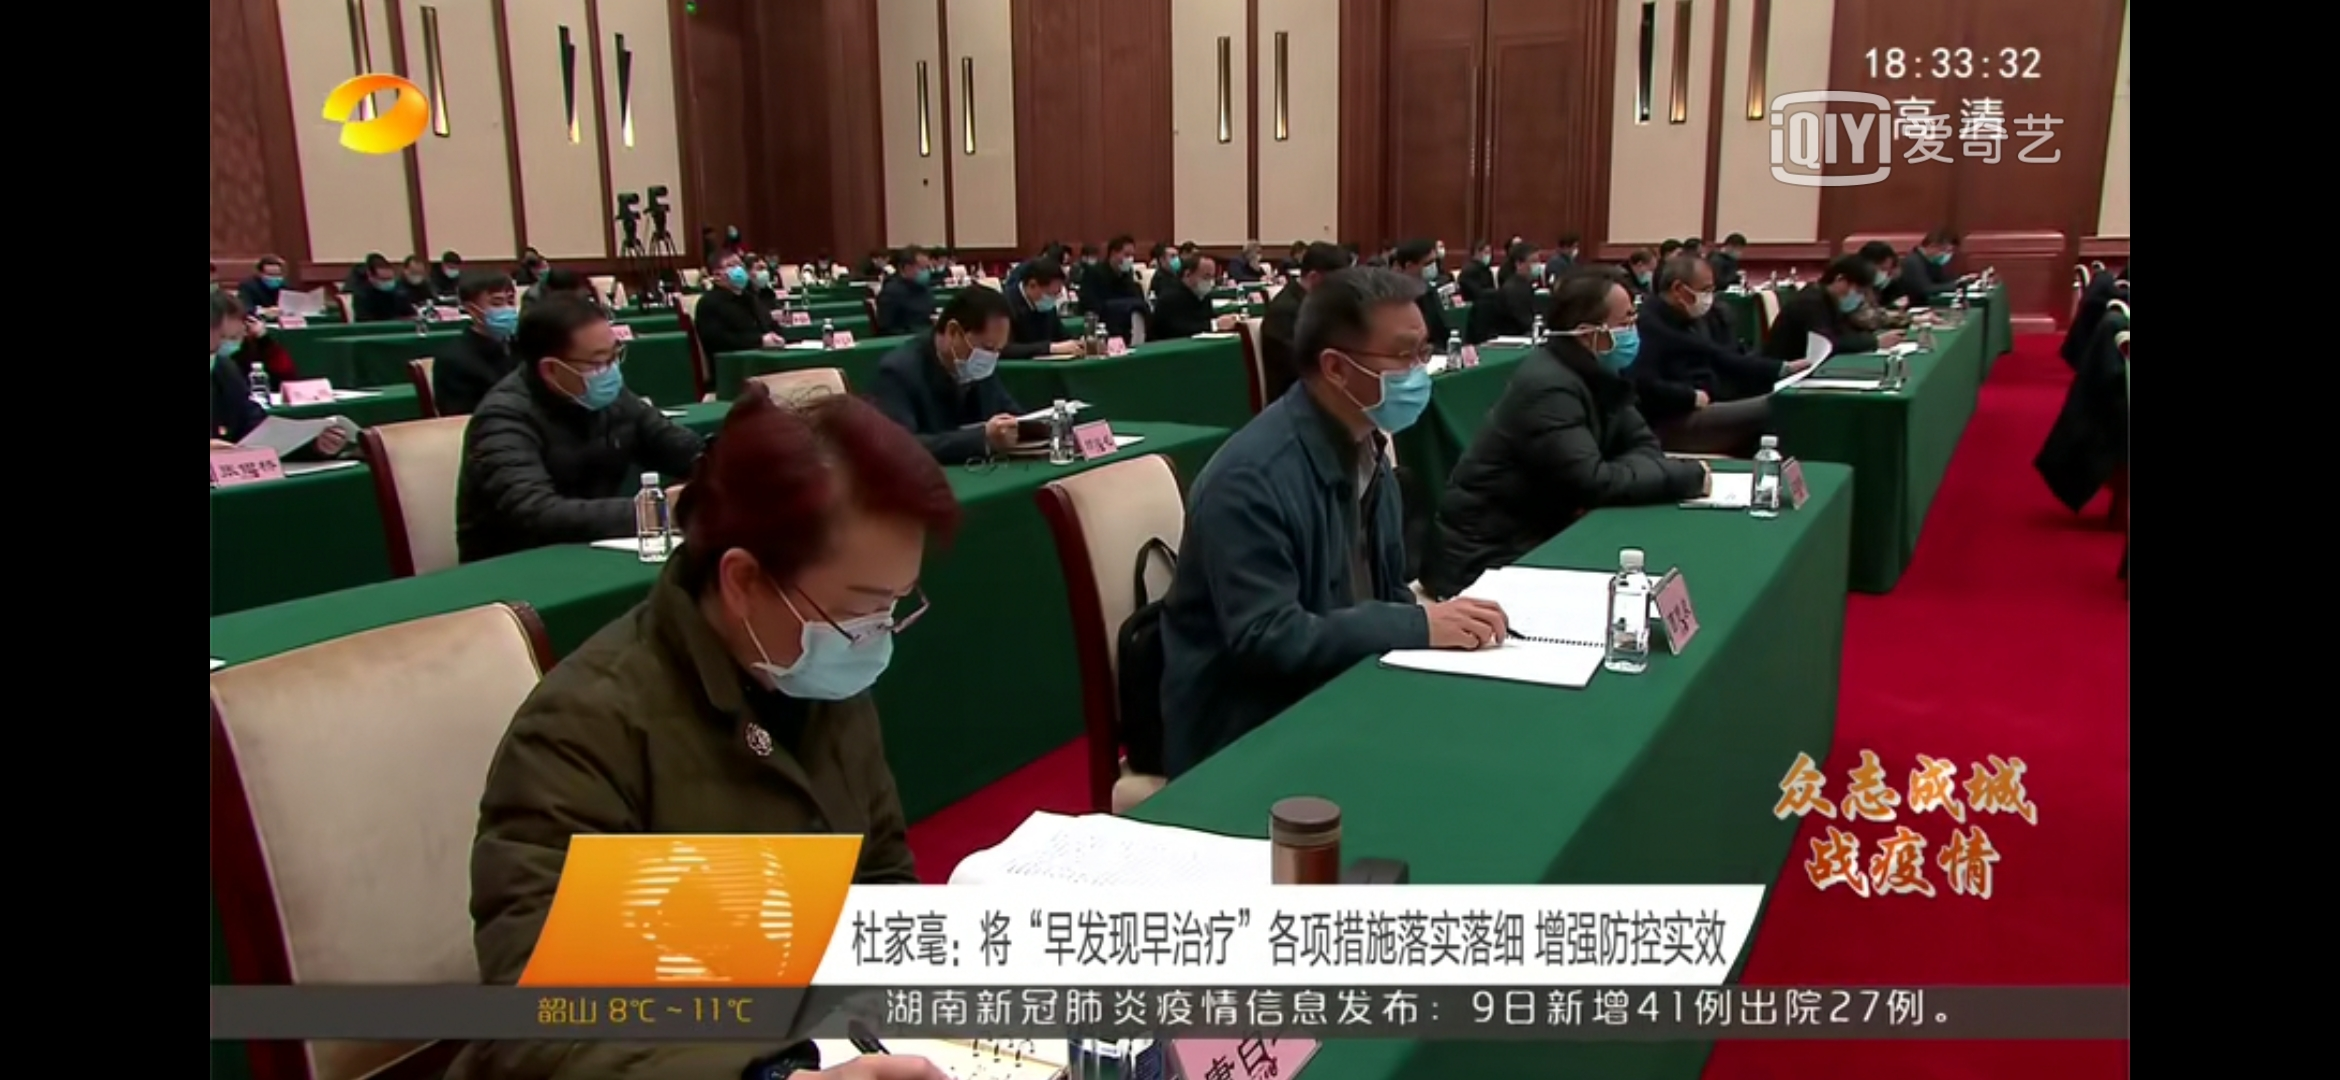correctlyWear: (719, 534, 913, 715), (1318, 333, 1433, 453), (545, 345, 625, 416), (1586, 298, 1643, 377), (942, 324, 1007, 385), (469, 286, 516, 342), (1673, 269, 1716, 322), (209, 315, 246, 362), (1025, 276, 1066, 313), (1833, 273, 1867, 315), (1404, 246, 1437, 283), (716, 260, 748, 292), (1868, 254, 1898, 288), (1186, 263, 1215, 298), (904, 249, 928, 286), (748, 260, 775, 292), (1931, 236, 1958, 266), (1518, 249, 1543, 279), (257, 263, 284, 289), (370, 266, 395, 292), (1113, 245, 1136, 273), (1637, 255, 1658, 280), (1161, 249, 1180, 274), (531, 260, 552, 282), (443, 254, 463, 277), (406, 263, 425, 283), (1730, 239, 1745, 260), (1477, 243, 1491, 266), (1565, 237, 1579, 260)
